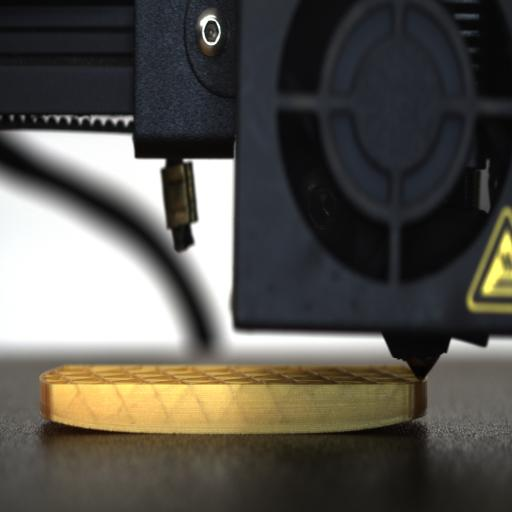warp: (31, 402, 149, 442), (346, 400, 437, 442)
